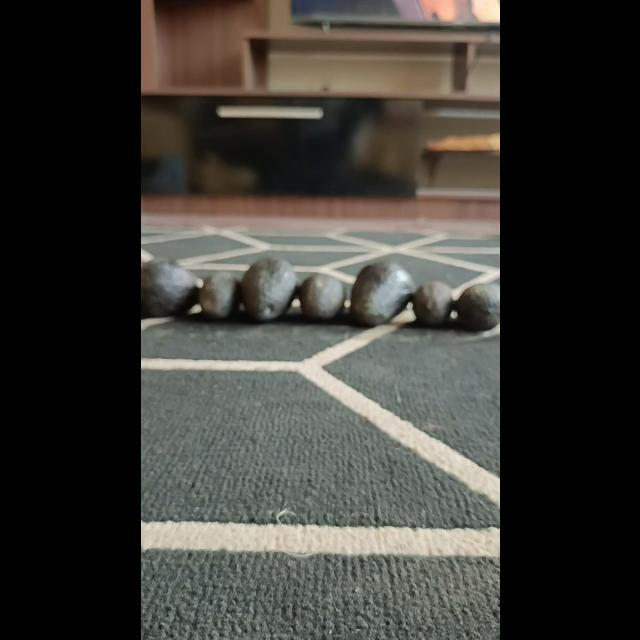Primera: (350, 258, 414, 326), (240, 256, 296, 322), (140, 260, 198, 318)
Segunda: (298, 273, 346, 321), (454, 282, 498, 332), (199, 271, 241, 319)
Tercera: (412, 280, 454, 326)
